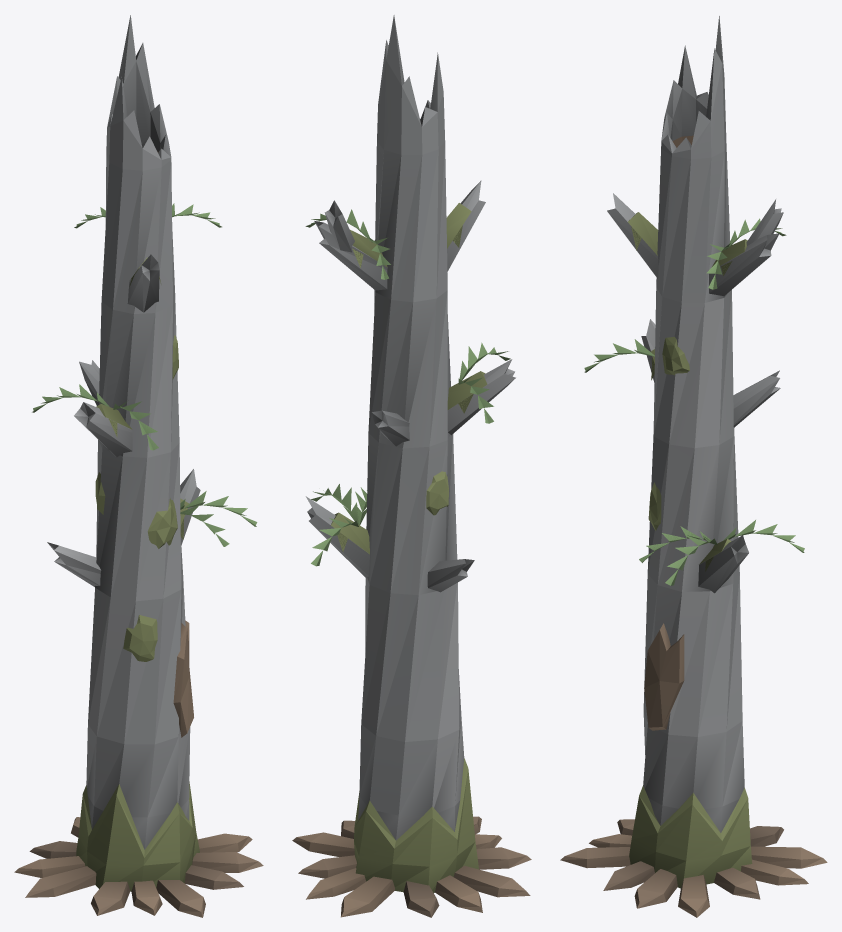
File: snag.glb
3 renders of one model, left to right at view 1: azimuth 30°, elevation 25°; view 2: azimuth 150°, elevation 25°; view 3: azimuth 270°, elevation 25°, orthographic. The views are drawn at different scales.
Parts seen in each view (by area): view 1: snag.001; view 2: snag.001; view 3: snag.001.
Part boxes in pixels (x1,y1,x2,y2): snag.001: (14,15,263,917); snag.001: (292,15,531,917); snag.001: (560,16,827,917).
Size of the model in its own units: 2.4 by 8.4 by 2.4.
